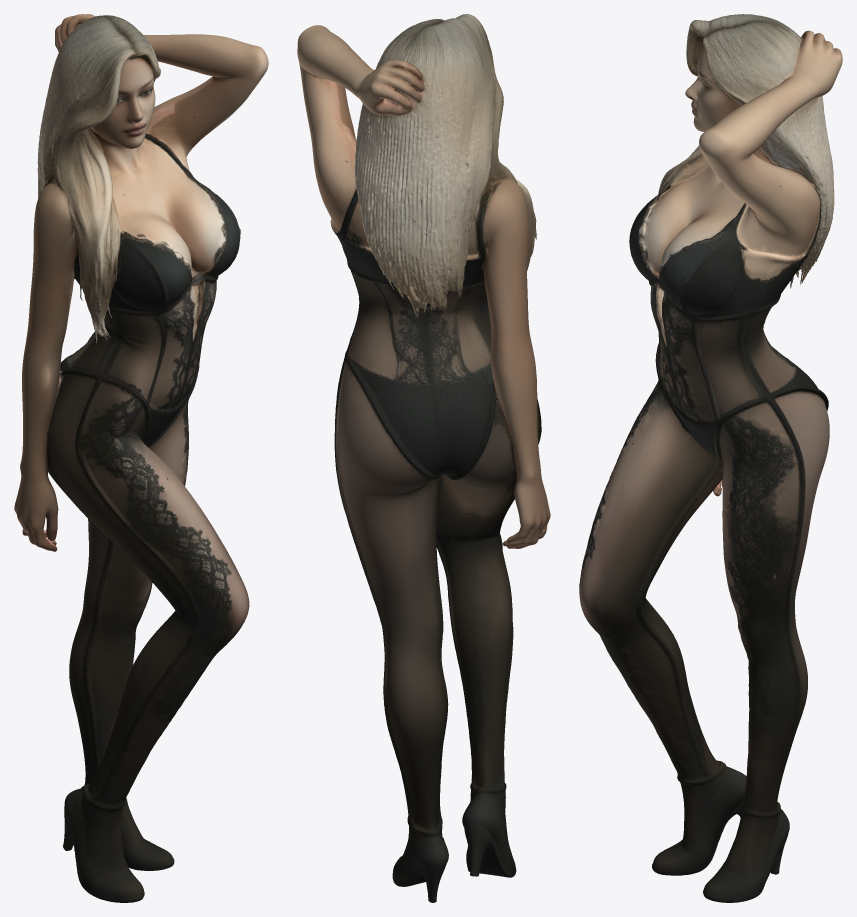
File: midnight_lace (1).glb
3 renders of one model, left to right at view 1: azimuth 30°, elevation 25°; view 2: azimuth 150°, elevation 25°; view 3: azimuth 270°, elevation 25°, orthographic. The views are drawn at different scales.
Visible parts, largest first — view 1: Object_5, Object_7, Object_6; view 2: Object_6, Object_5, Object_7; view 3: Object_5, Object_6, Object_7.
Part boxes in pixels (x1,y1,x2,y2): Object_5: [22, 14, 249, 902]; Object_7: [14, 21, 268, 893]; Object_6: [14, 14, 242, 867]; Object_6: [300, 18, 541, 902]; Object_5: [297, 38, 546, 884]; Object_7: [299, 14, 550, 877]; Object_5: [579, 30, 833, 884]; Object_6: [709, 14, 842, 899]; Object_7: [659, 18, 753, 902].
Size of the model in its own units: 0.5691 by 1.9 by 0.5255.
1 material, 1 textured.
